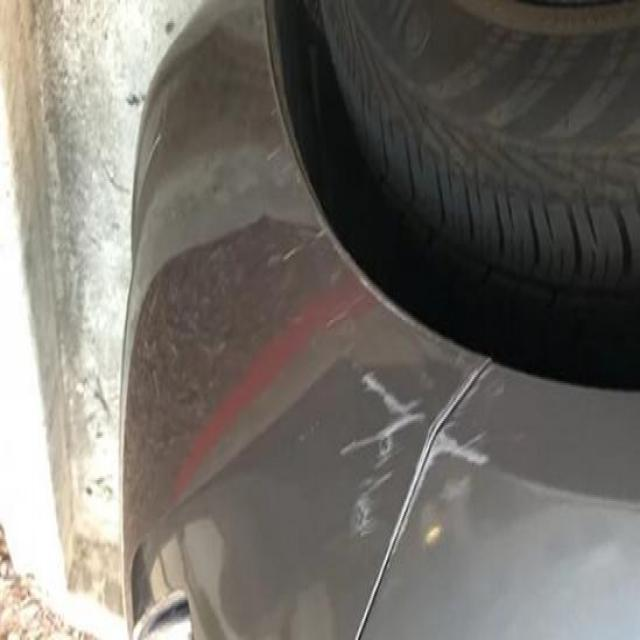scratch: (335, 360, 496, 574)
